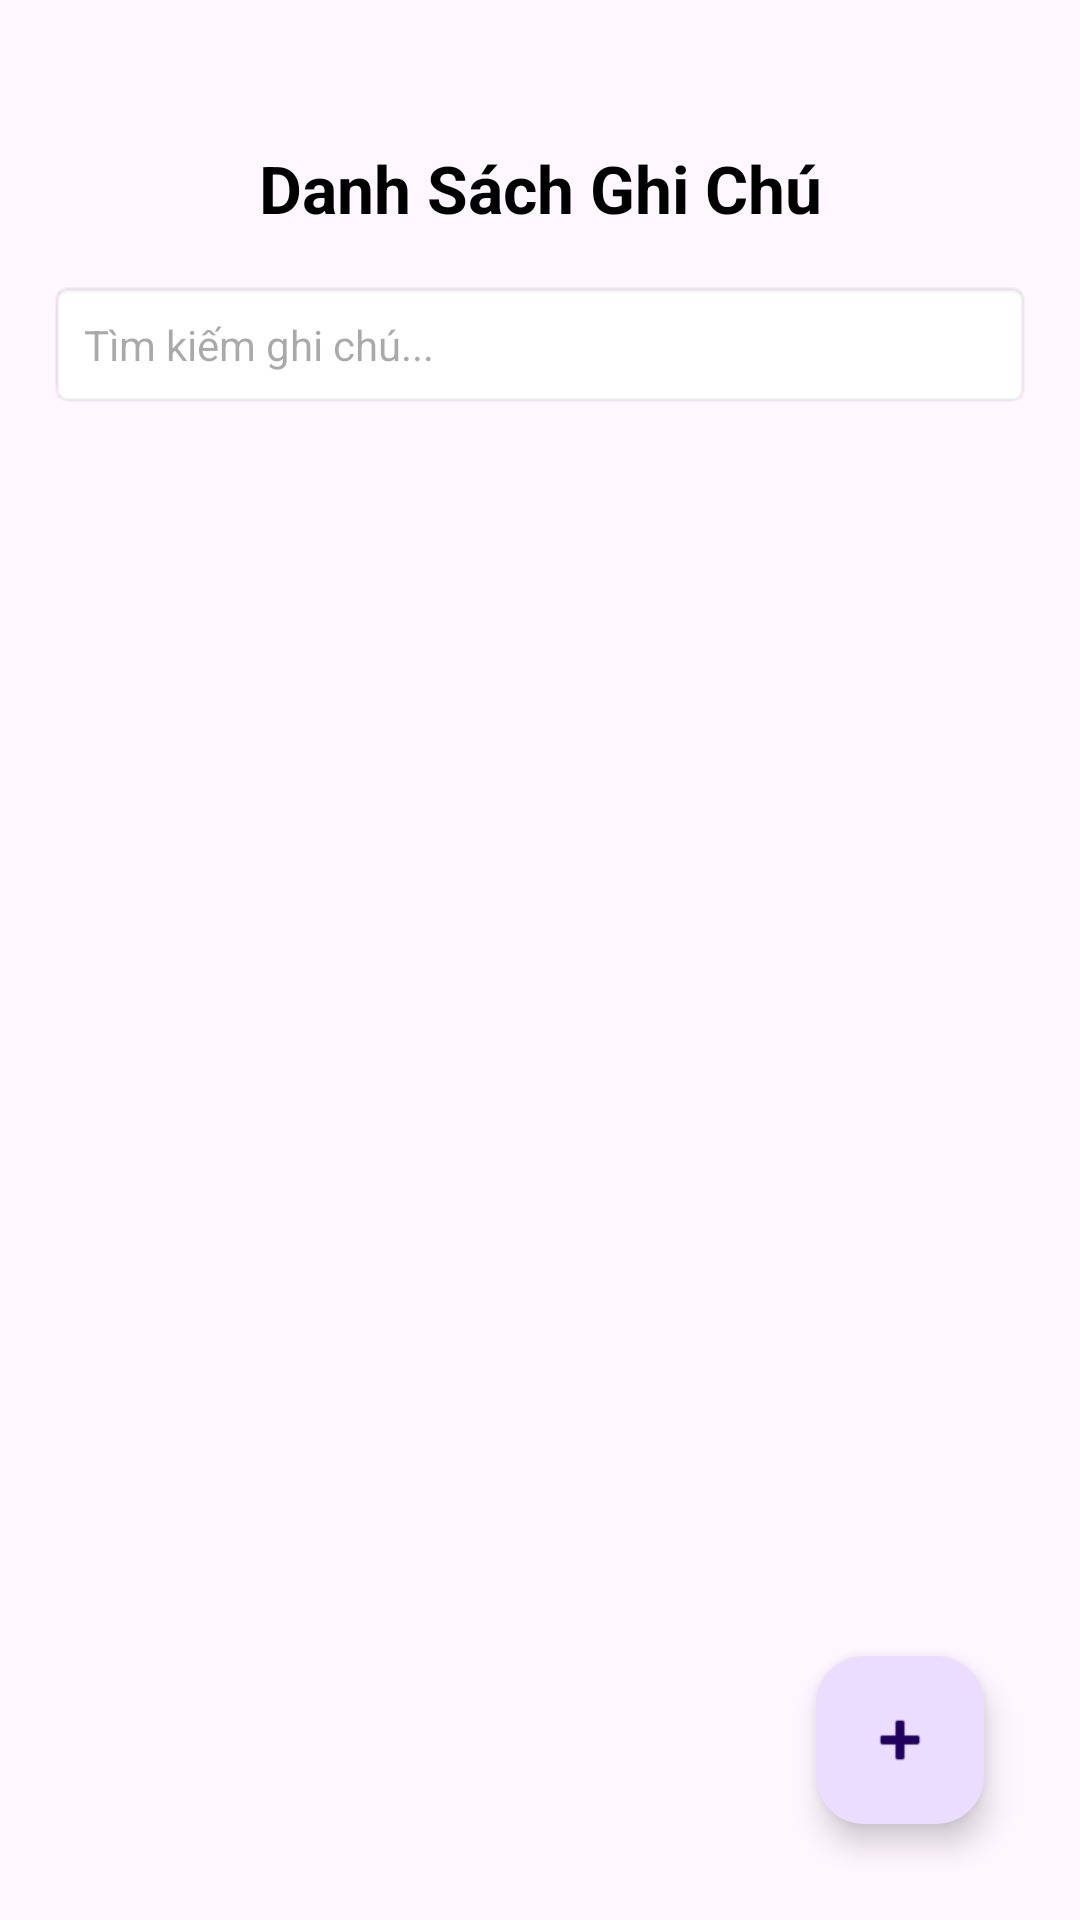

Icons on this 1080×1920 Android screen, each with its box as box=[x1, y1, x2, y2]:
Thêm ghi chú mới: box=[816, 1656, 984, 1824]
